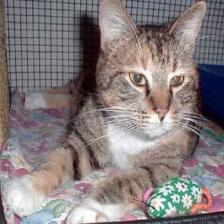cat: (89, 3, 211, 138)
